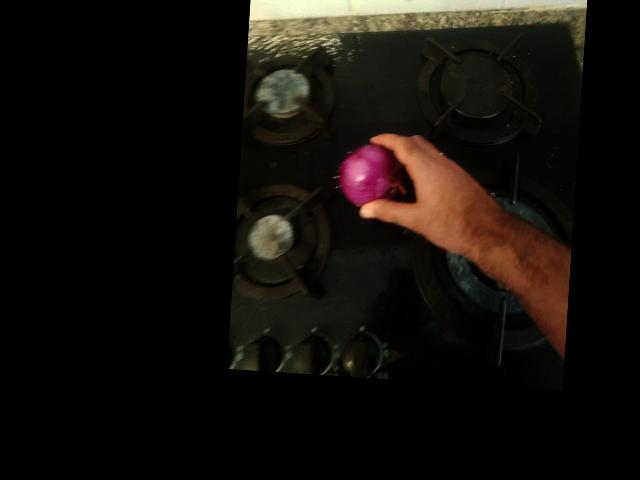onion: (305, 32, 372, 93)
